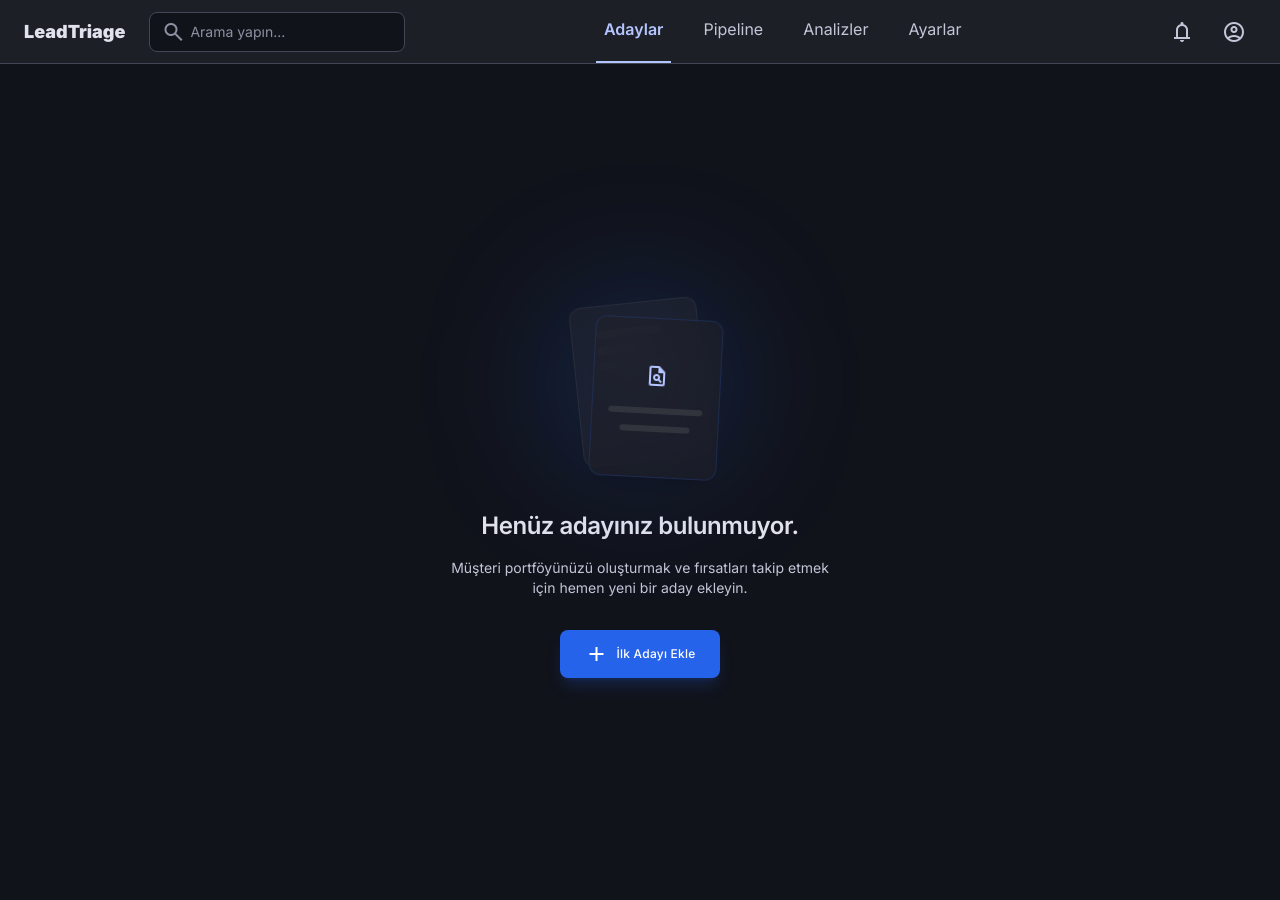
Test case: App › adds a lead through the form
Click the button "İlk Adayı Ekle". click: [640, 654]
box: [560,630,720,678]
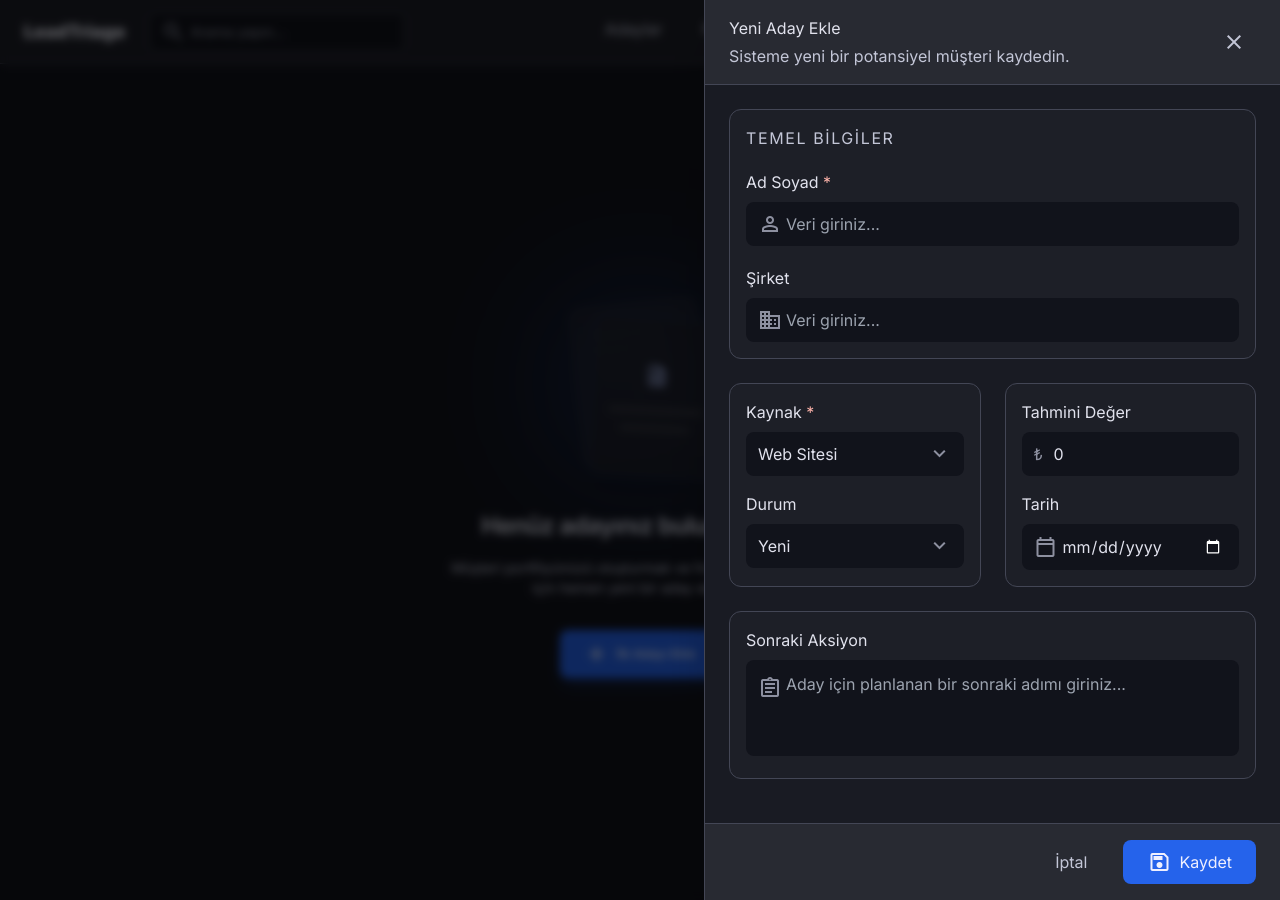
Type "Elif Yılmaz" into the field labelled "Ad Soyad *". click: [992, 224]
box: [746,202,1239,246]
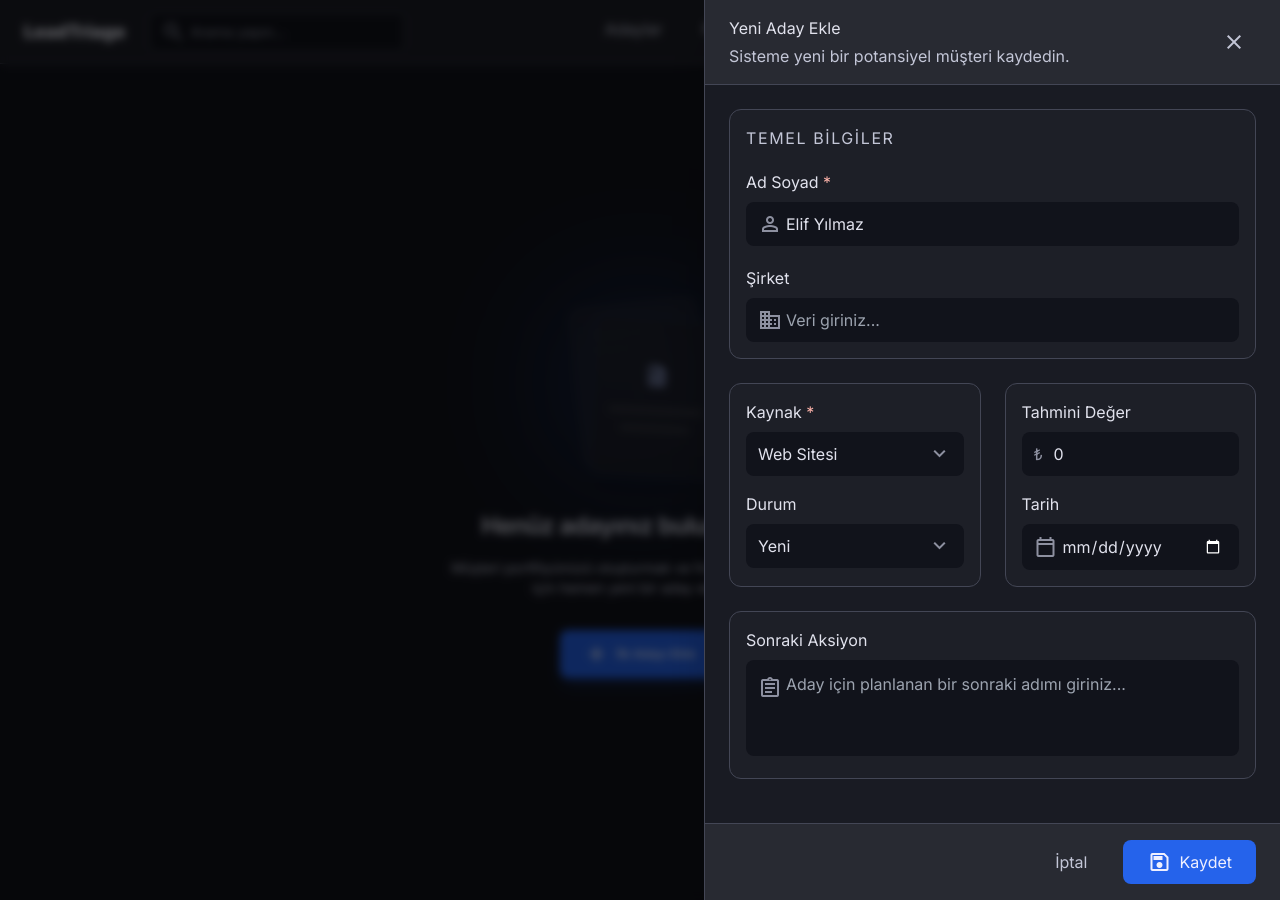
Type "Reel Forge" into the field labelled "Şirket". click: [992, 320]
box: [746,298,1239,342]
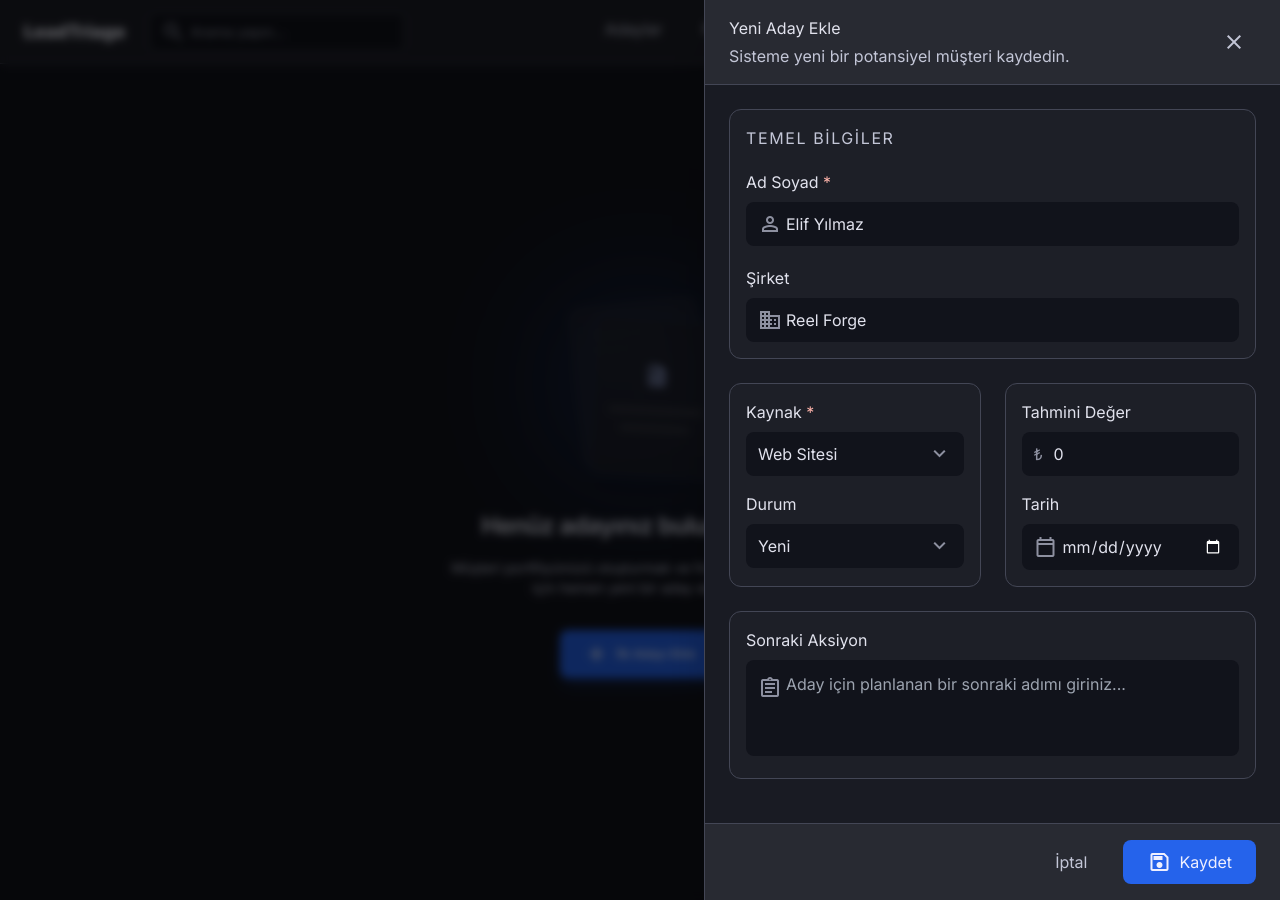
Click the button "Kaydet". click: [1190, 862]
box: [1123,840,1256,884]
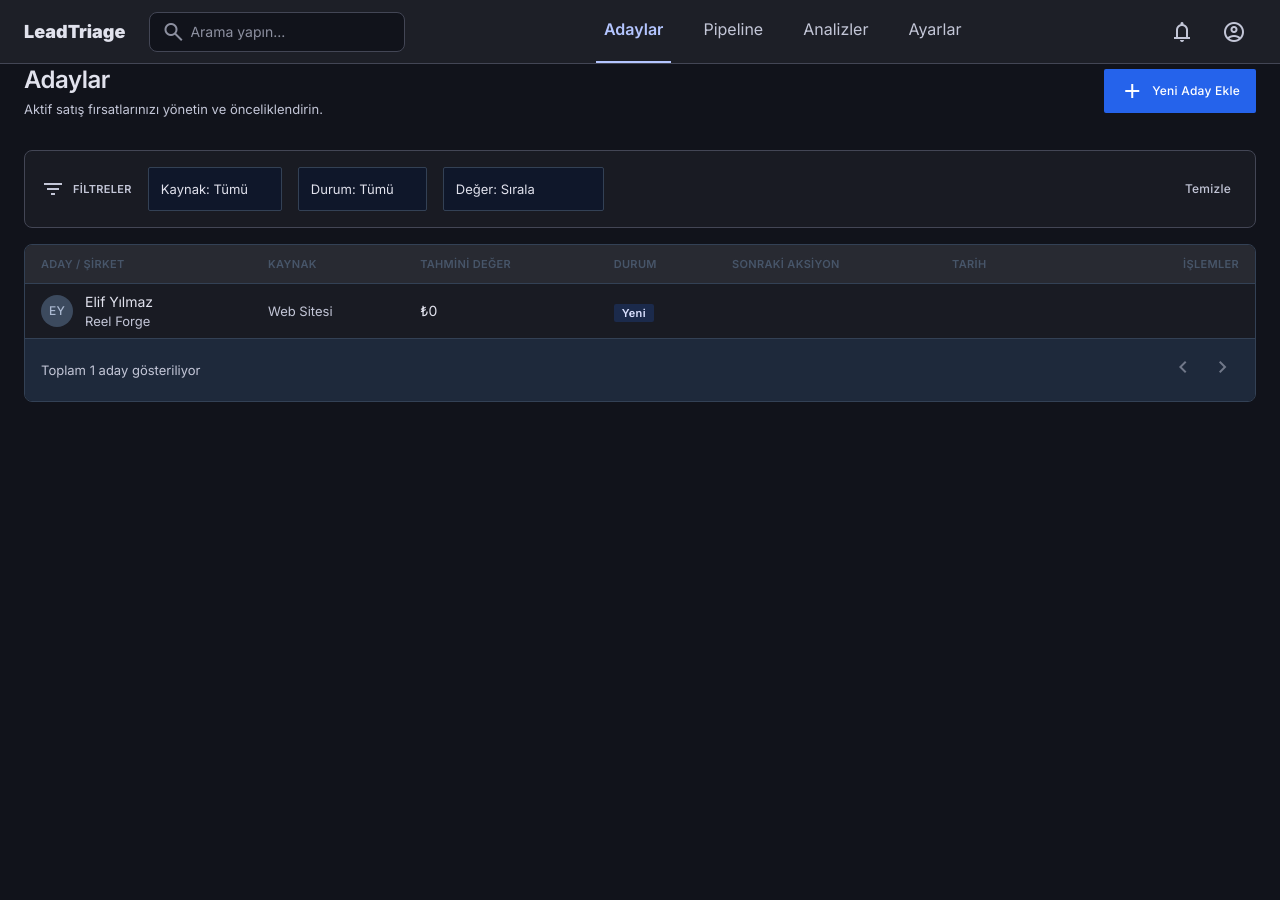
Expected: the text "Elif Yılmaz" is shown, [85,292,153,312]
